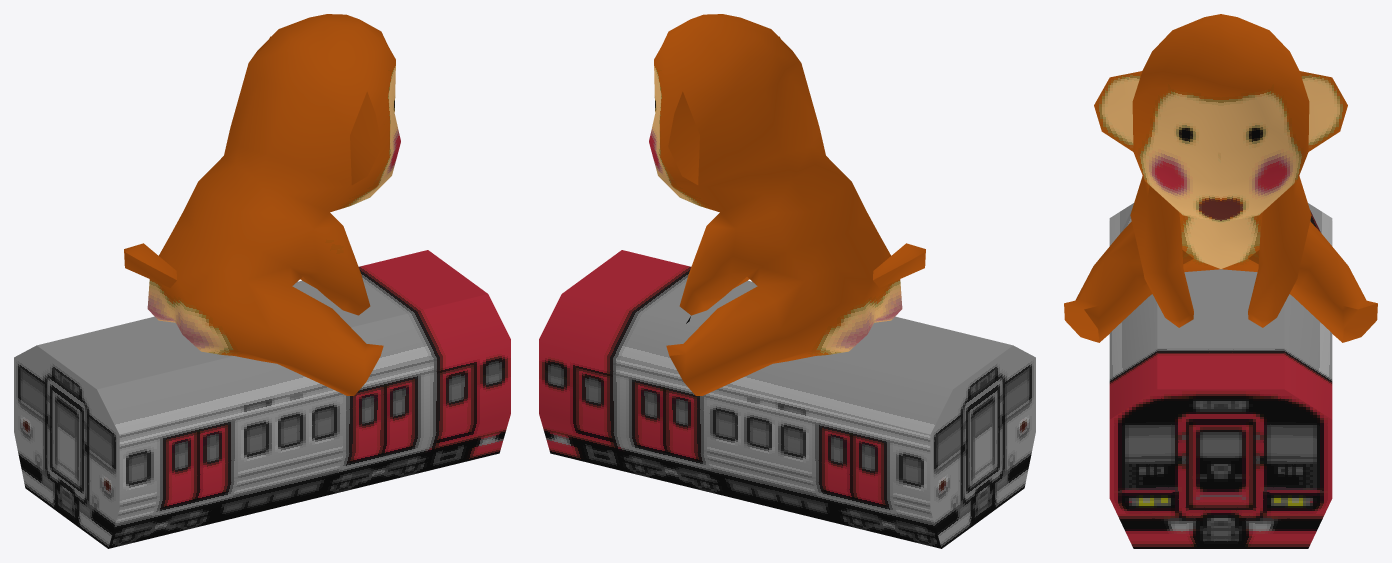
Rendered from ps2_save-icons_denshadego3tsuukinhen.glb.
3 renders of one model, left to right at view 1: azimuth 30°, elevation 25°; view 2: azimuth 150°, elevation 25°; view 3: azimuth 270°, elevation 25°, orthographic. The views are drawn at different scales.
Visible parts, largest first — view 1: ICON; view 2: ICON; view 3: ICON.
Part boxes in pixels (left/top/right/bottom): ICON: left=14, top=14, right=510, bottom=548; ICON: left=539, top=14, right=1035, bottom=548; ICON: left=1064, top=14, right=1377, bottom=548.
Bounding box in the file's own units: 3 × 3.18 × 1.98.
1 material, 1 textured.
